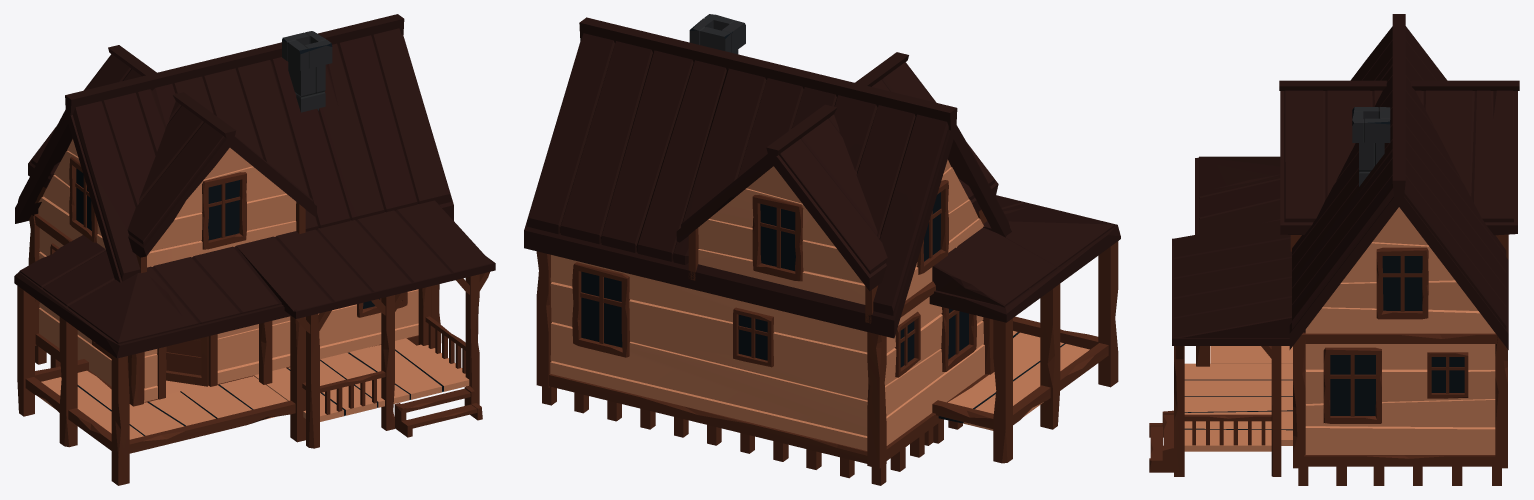
Rendered from House_6.001.fbx.
3 renders of one model, left to right at view 1: azimuth 30°, elevation 25°; view 2: azimuth 150°, elevation 25°; view 3: azimuth 270°, elevation 25°, orthographic. The views are drawn at different scales.
Parts seen in each view (by area): view 1: House_6.001; view 2: House_6.001; view 3: House_6.001.
Boxes of the visible parts, x1,y1,x2,y2 form: House_6.001: (14,14,495,485); House_6.001: (524,14,1120,485); House_6.001: (1149,14,1519,485).
Size of the model in its own units: 265 by 209 by 216.
